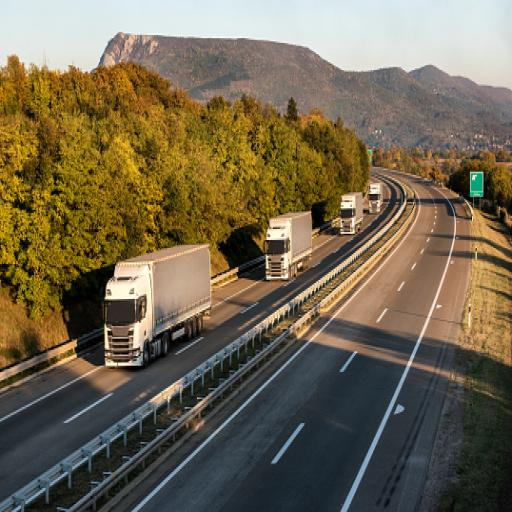truck: (103, 242, 211, 369), (264, 210, 312, 280), (338, 191, 362, 234), (365, 176, 387, 218)
